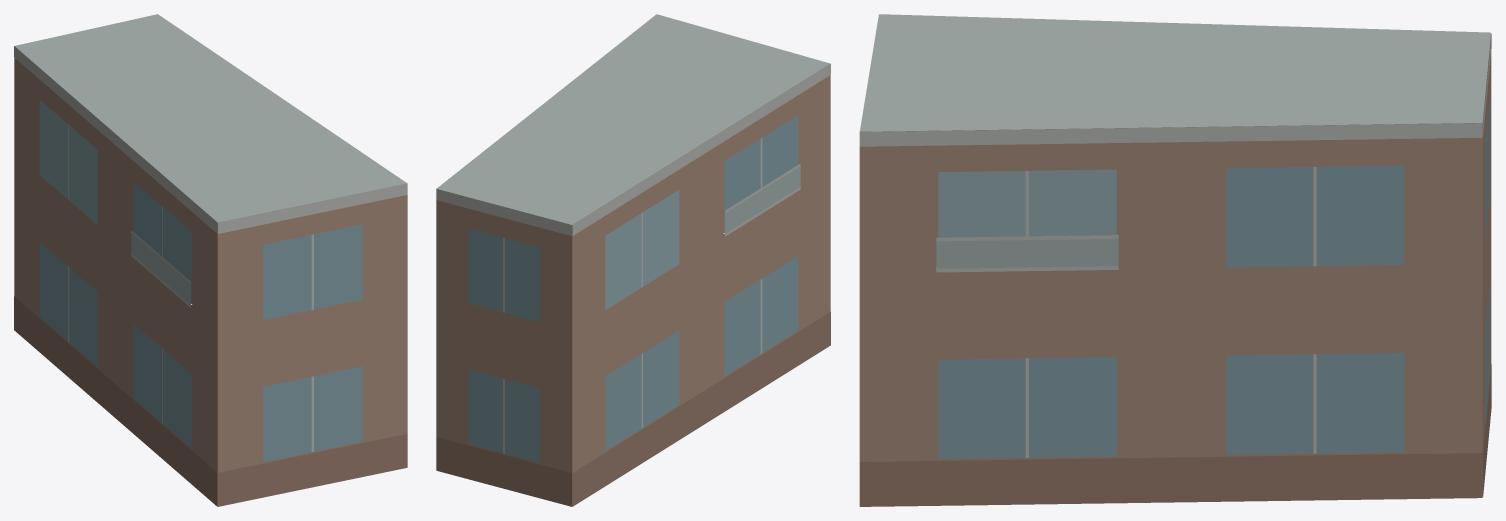
The model's file is survey-upis-32517410.glb.
The picture shows the model from 3 angles, left to right: view 1: azimuth 30°, elevation 25°; view 2: azimuth 150°, elevation 25°; view 3: azimuth 270°, elevation 25°; orthographic projection. The views are drawn at different scales.
Visible parts, largest first — view 1: survey-upis-32517410.tmp; view 2: survey-upis-32517410.tmp; view 3: survey-upis-32517410.tmp.
Part boxes in pixels (box(x1,y1,x2,y2)): survey-upis-32517410.tmp: box(14, 14, 407, 506); survey-upis-32517410.tmp: box(436, 14, 830, 506); survey-upis-32517410.tmp: box(859, 14, 1491, 506).
Bounding box in the file's own units: 4.12 × 6.1 × 9.32.
